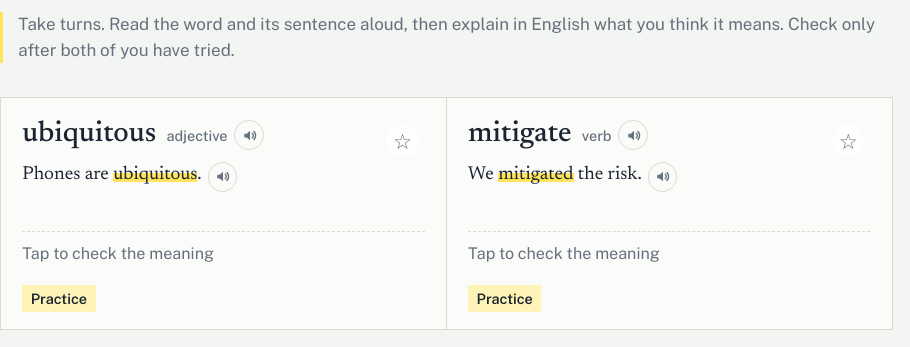
VocabularyTab › hides the definition again on a second click
This screenshot has width=910, height=347.
What coordinates should you click on to do the following:
click the text "mitigate"
I would click on:
 (520, 135)
Its box is top-left (468, 119), bottom-right (572, 151).
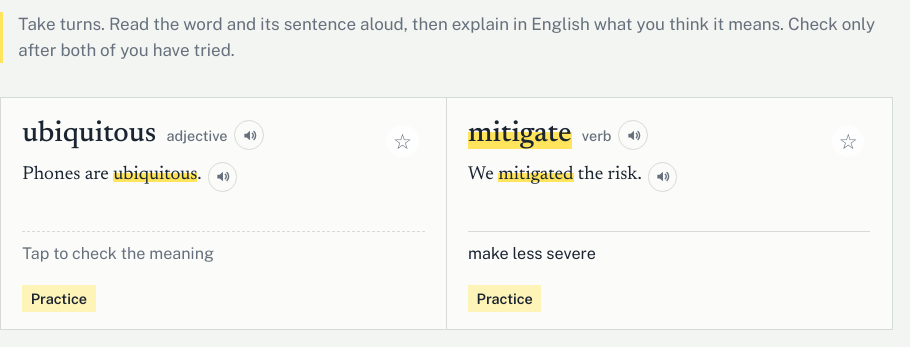
Check: the button "make less severe" is shown, box top-left (468, 231), bottom-right (870, 266)
What coordinates should you click on to do the following:
click the text "mitigate"
I would click on:
 (520, 135)
Its box is top-left (468, 119), bottom-right (572, 151).
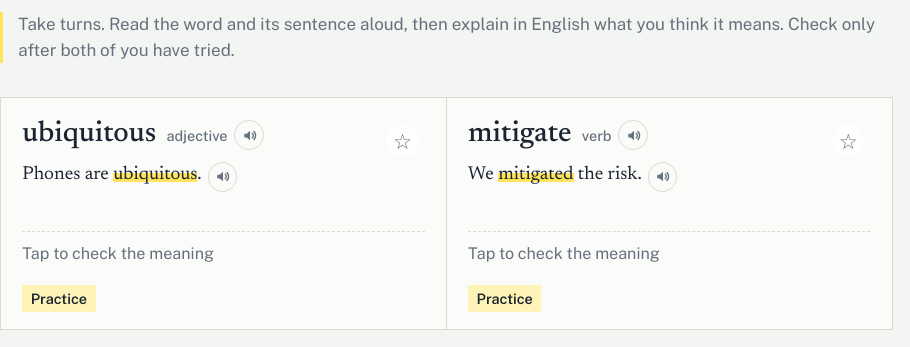
Check: the button "make less severe" is gone
